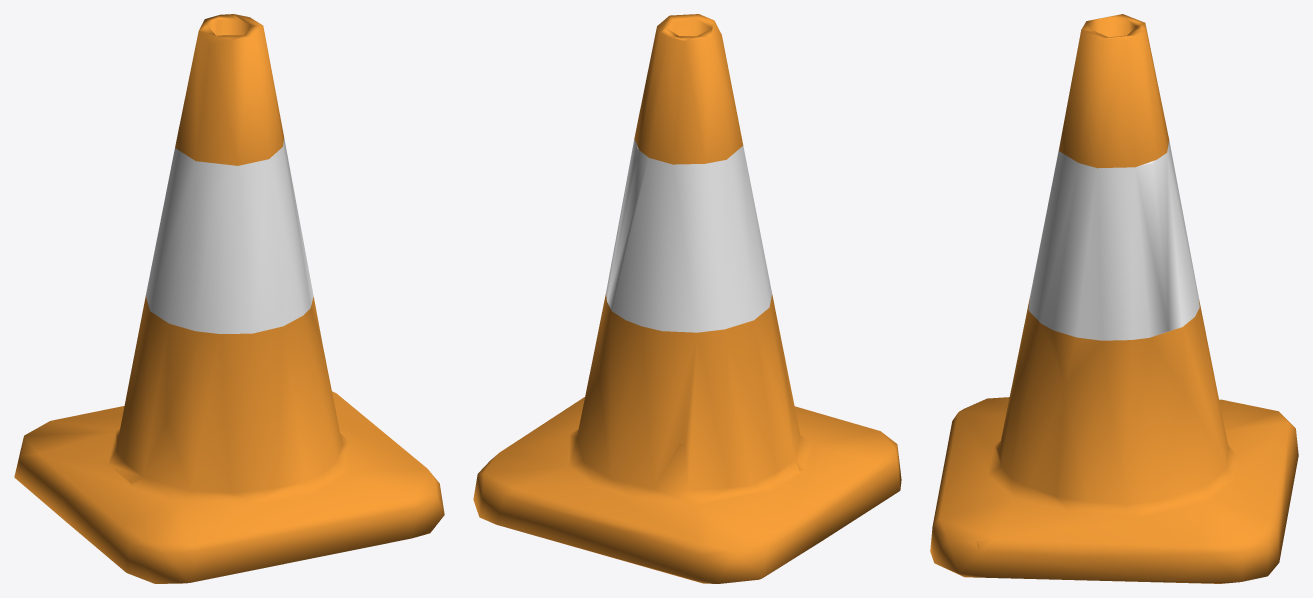
Rendered from SM_prop_cone.fbx.
3 renders of one model, left to right at view 1: azimuth 30°, elevation 25°; view 2: azimuth 150°, elevation 25°; view 3: azimuth 270°, elevation 25°, orthographic. The views are drawn at different scales.
Visible parts, largest first — view 1: SM_prop_cone; view 2: SM_prop_cone; view 3: SM_prop_cone.
Boxes of the visible parts, box(x1,y1,x2,y2) form: SM_prop_cone: box(14, 14, 444, 583); SM_prop_cone: box(473, 14, 901, 583); SM_prop_cone: box(930, 14, 1298, 583).
Bounding box in the file's own units: 34.8 × 50 × 34.64.
Materials: 1 (1 with a texture image).
